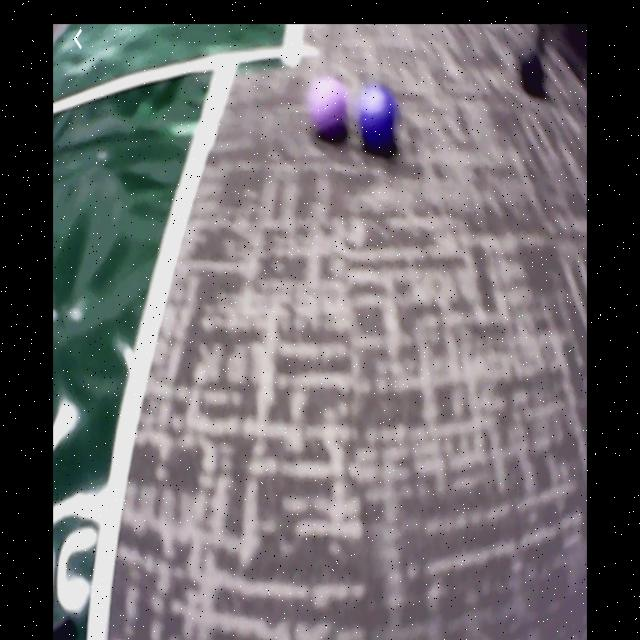ball: (307, 80, 347, 139), (359, 86, 394, 145)
